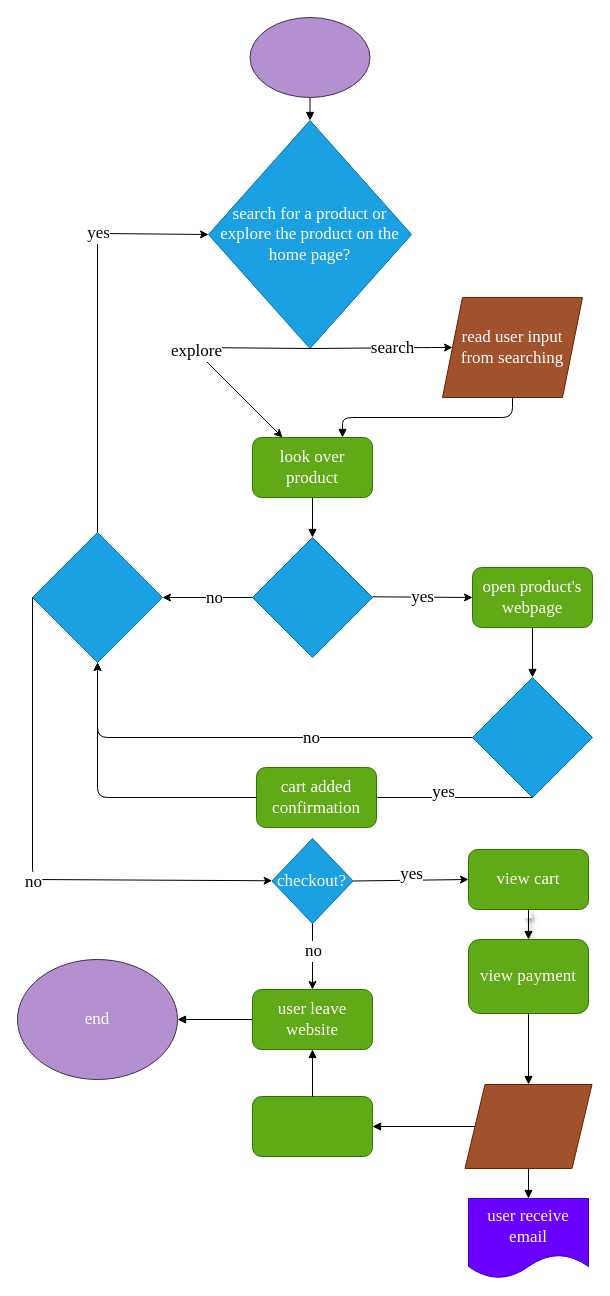
Some shapes in this 610 by 1296 pixel diagram are drawn without their labels. Here are the shapes that lost their labels. From the top down, the centre of each, then its label:
At point 309,57: "User enter website".
At point 97,597: "continue shopping?".
At point 312,597: "view specific product?".
At point 532,737: "add this item to cart?".
At point 312,1126: "order confirmation screen".
At point 528,1126: "user input of payment information".
